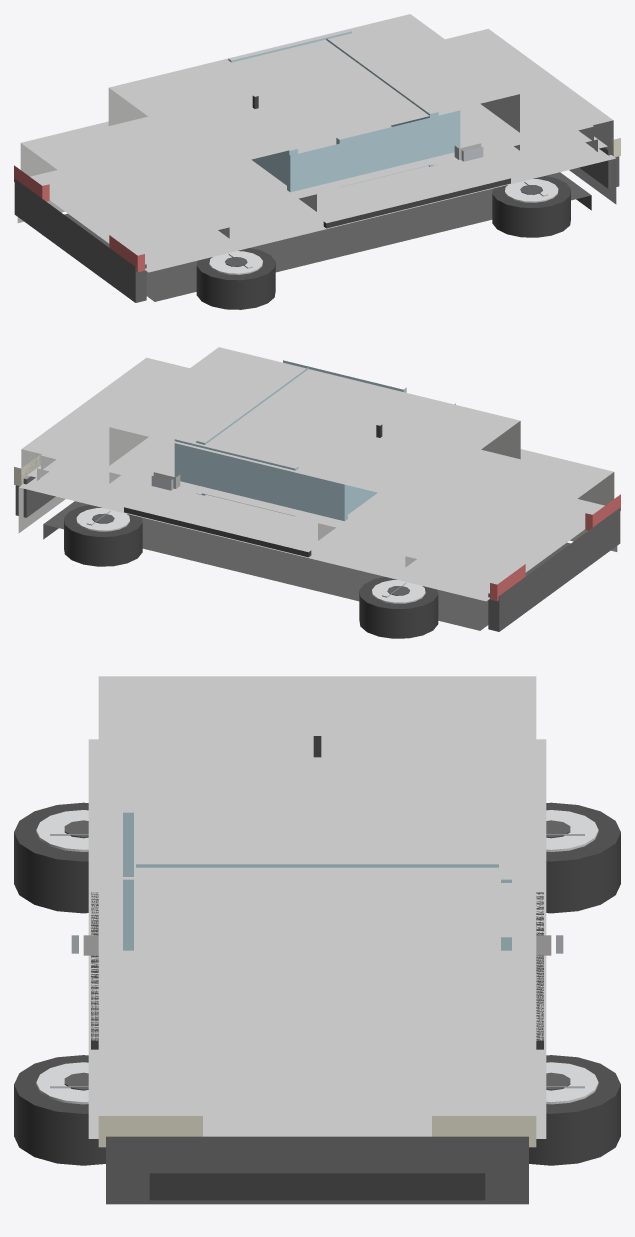
File: car_white.glb
The picture shows the model from 3 angles, top to bottom: view 1: azimuth 30°, elevation 25°; view 2: azimuth 150°, elevation 25°; view 3: azimuth 270°, elevation 25°; orthographic projection. The views are drawn at different scales.
Bounding box in the file's own units: 3.94 × 1.13 × 2.44.
